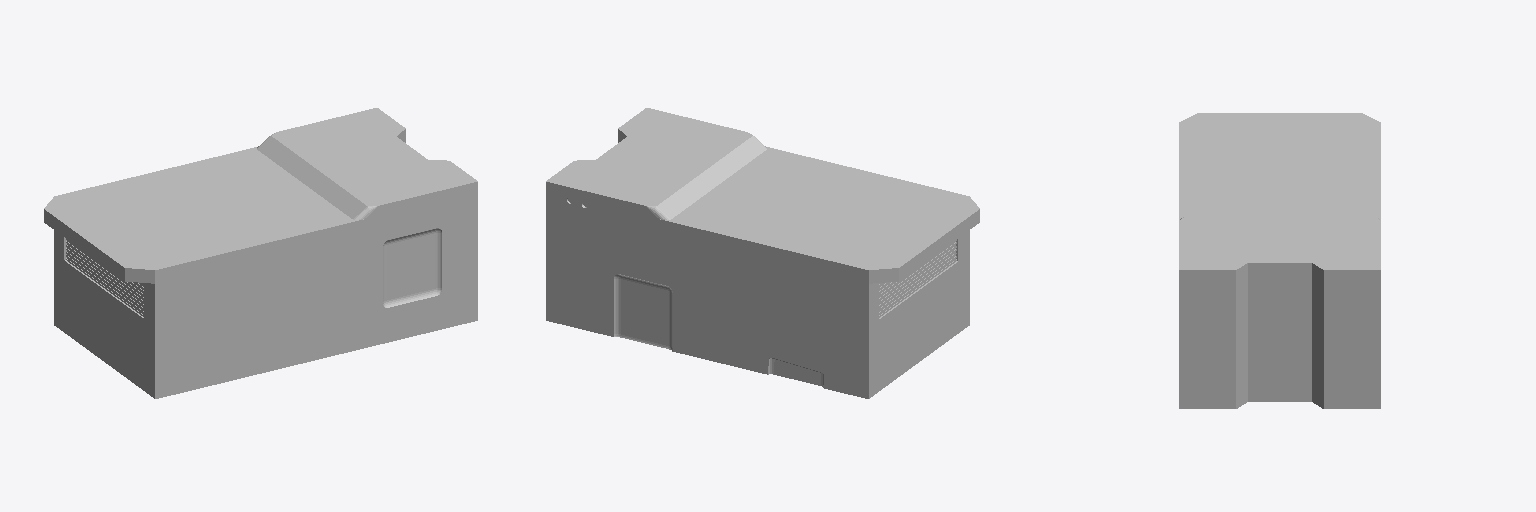
File: table.obj
3 views of the same model, side by side, from view 1: azimuth 30°, elevation 25°; view 2: azimuth 150°, elevation 25°; view 3: azimuth 270°, elevation 25° (orthographic).
Parts seen in each view (by area): view 1: Cube; view 2: Cube; view 3: Cube.
Boxes of the visible parts, x1,y1,x2,y2 form: Cube: [44, 108, 477, 398]; Cube: [546, 108, 979, 398]; Cube: [1179, 113, 1380, 408].
Bounding box in the file's own units: 6.22 × 2.41 × 3.17.